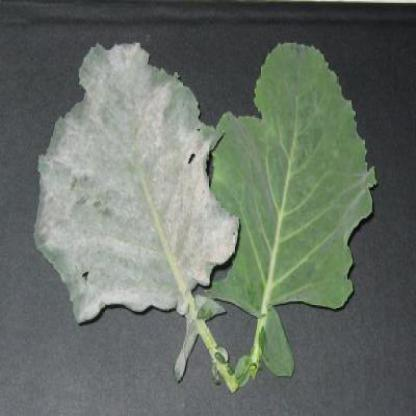squash powdery mildew leaf: (25, 39, 242, 316), (205, 32, 378, 320)
